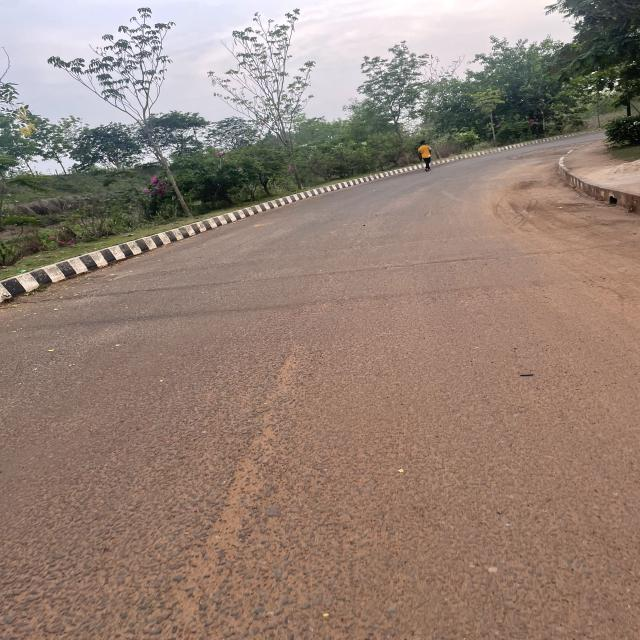D01: (192, 350, 317, 636)
